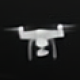plane: (6, 20, 79, 61)
